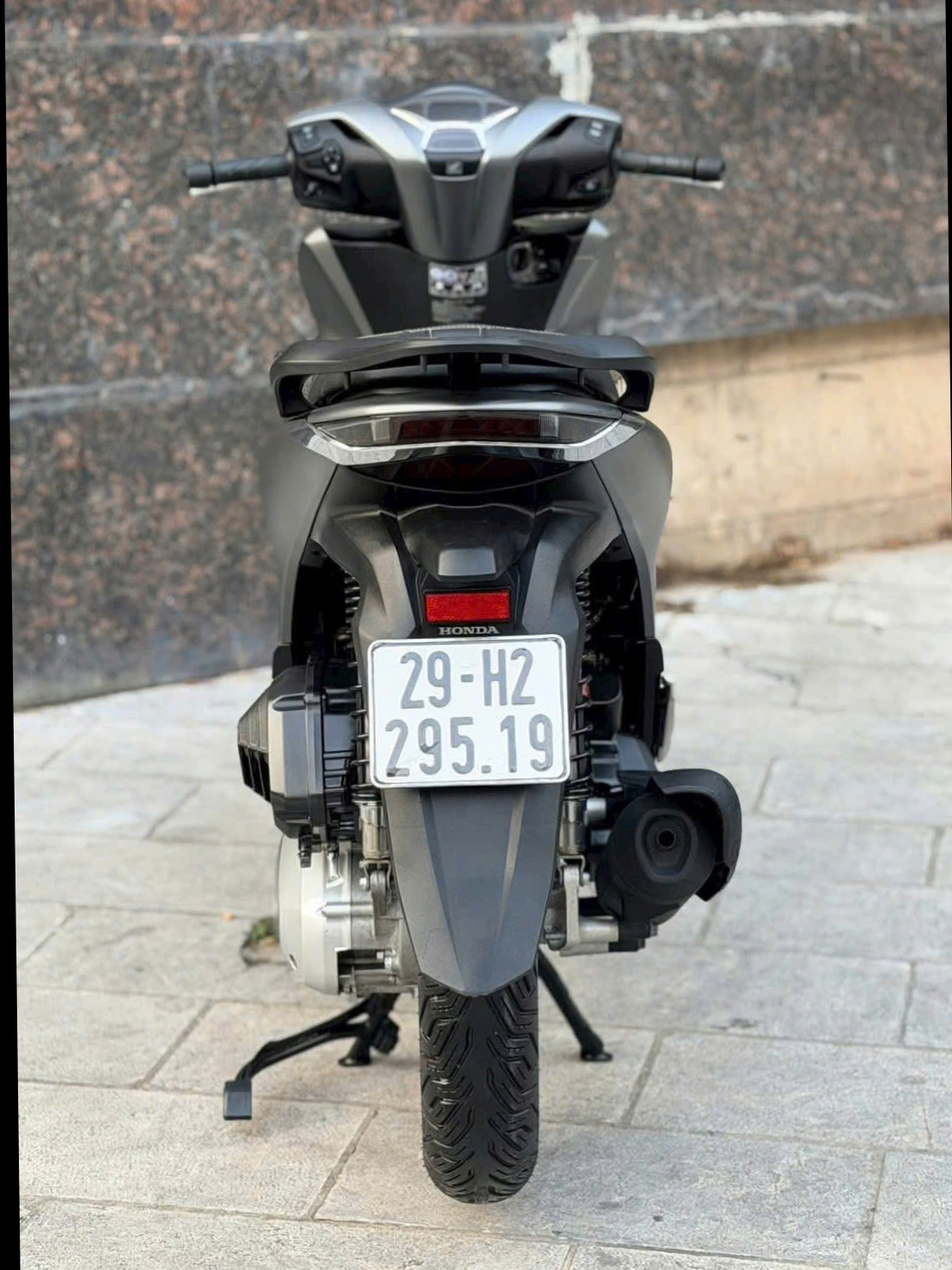Bien-so: (342, 657, 547, 815)
